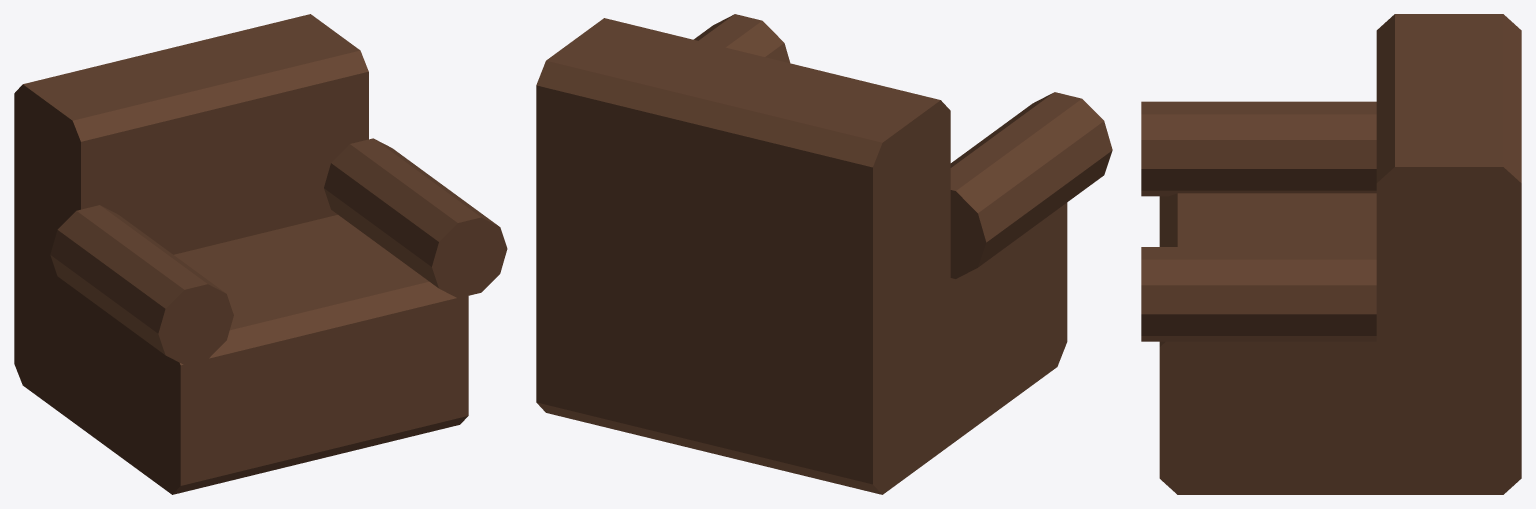
Rendered from Chair_Color.fbx.
3 renders of one model, left to right at view 1: azimuth 30°, elevation 25°; view 2: azimuth 150°, elevation 25°; view 3: azimuth 270°, elevation 25°, orthographic. The views are drawn at different scales.
Visible parts, largest first — view 1: Object; view 2: Object; view 3: Object.
Part boxes in pixels (box(x1,y1,x2,y2)): Object: box(14, 14, 507, 494); Object: box(536, 14, 1112, 494); Object: box(1141, 14, 1521, 494).
Bounding box in the file's own units: 121 × 100 × 105.
